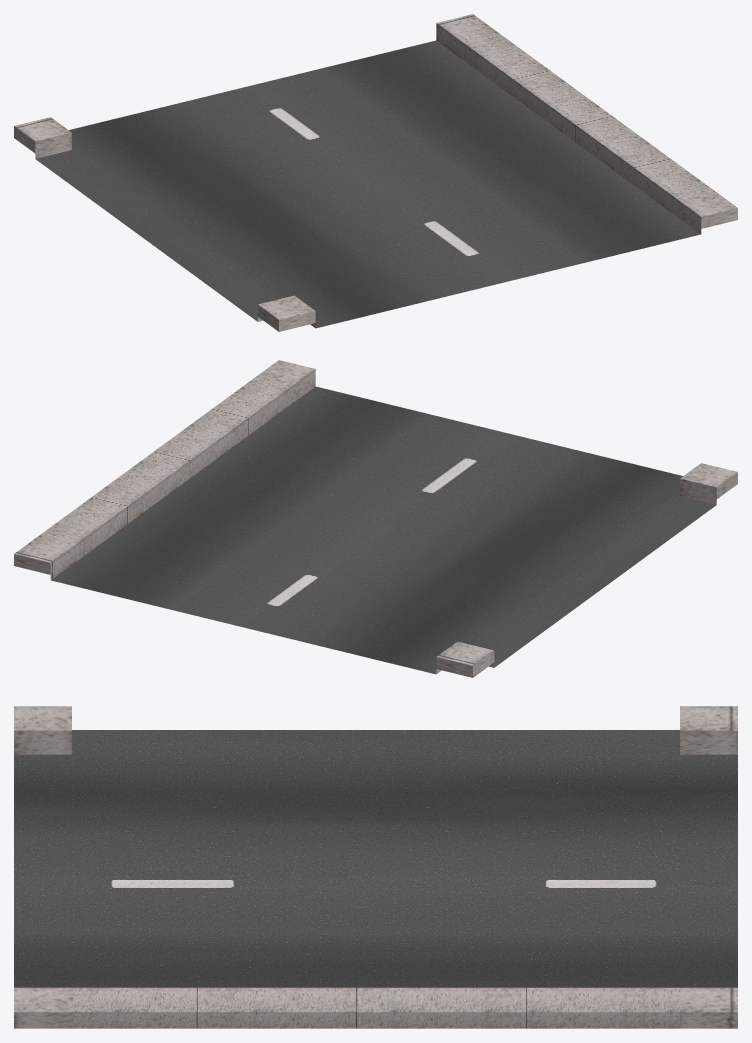
Rendered from road segment A.FBX.
3 renders of one model, top to bottom at view 1: azimuth 30°, elevation 25°; view 2: azimuth 150°, elevation 25°; view 3: azimuth 270°, elevation 25°, orthographic. The views are drawn at different scales.
Visible parts, largest first — view 1: Box001; view 2: Box001; view 3: Box001.
Boxes of the visible parts, x1=… form: Box001: x1=14, y1=14, x2=737, y2=331; Box001: x1=14, y1=360, x2=737, y2=677; Box001: x1=14, y1=706, x2=737, y2=1028.
Bounding box in the file's own units: 24 × 0.8736 × 24.
